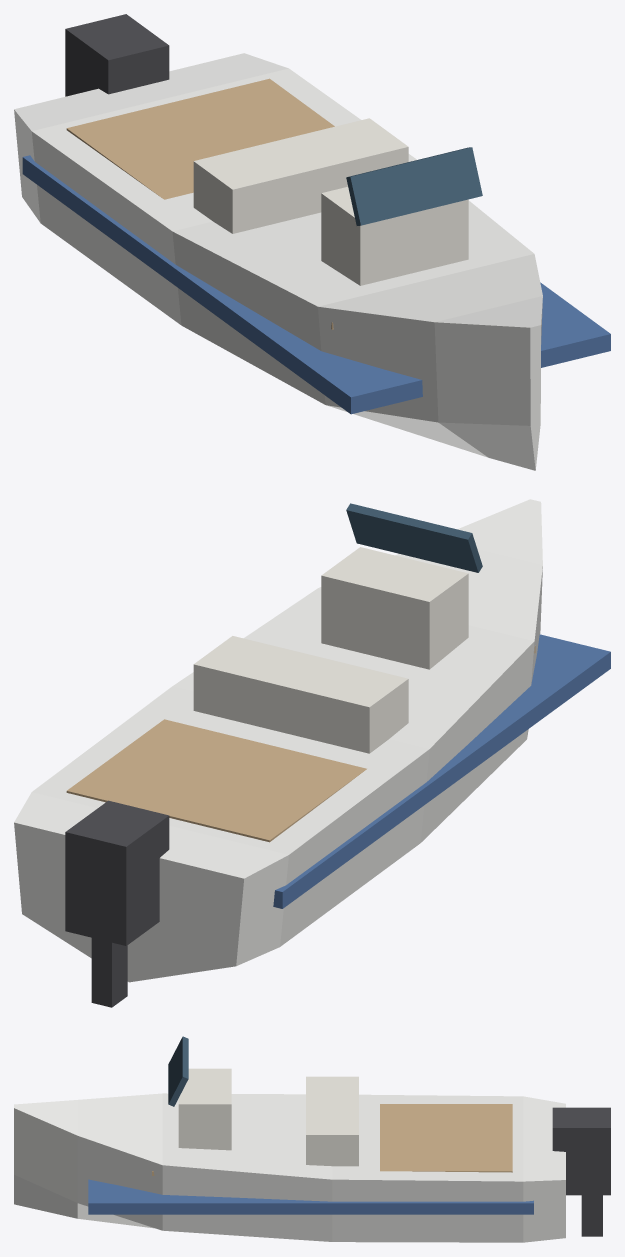
Rendered from prop_boat_skiff.glb.
3 views of the same model, one above another, from view 1: azimuth 30°, elevation 25°; view 2: azimuth 150°, elevation 25°; view 3: azimuth 270°, elevation 25° (orthographic). The views are drawn at different scales.
Visible parts, largest first — view 1: hull, stripe, floor, seat, console, engine, screen; view 2: hull, floor, seat, console, engine, stripe, screen, leg; view 3: hull, floor, stripe, seat, engine, console, screen, leg.
Part boxes in pixels (box(x1,y1,x2,y2)): hull: box(14, 53, 542, 470); stripe: box(22, 155, 610, 414); floor: box(66, 78, 334, 329); seat: box(193, 118, 408, 233); console: box(321, 186, 468, 285); engine: box(65, 14, 169, 96); screen: box(346, 147, 482, 225); hull: box(14, 499, 542, 982); floor: box(66, 645, 535, 842); seat: box(193, 636, 408, 753); console: box(321, 547, 468, 669); engine: box(65, 800, 169, 945); stripe: box(273, 634, 610, 908); screen: box(346, 503, 482, 572); leg: box(91, 938, 127, 1007); hull: box(14, 1093, 565, 1242); floor: box(152, 1104, 512, 1175); stripe: box(88, 1179, 533, 1214); seat: box(306, 1076, 358, 1166); engine: box(552, 1107, 610, 1195); console: box(178, 1068, 231, 1150); screen: box(168, 1036, 188, 1106); leg: box(581, 1195, 602, 1236).
Size of the model in its own units: 1.92 by 1.84 by 5.62.
